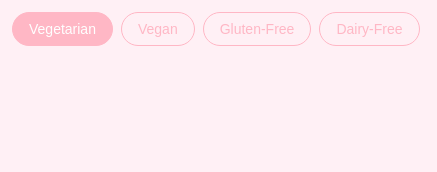
Test: DietaryPreferences chips (#394) › toggling a chip flips its pressed state and PUTs the full exact-string selection to /api/profile/[id]
Click the checkbox labelled "Gluten-Free" at (257, 29), box [203,12,311,46]
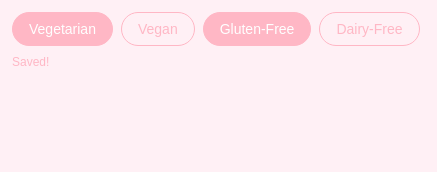
Check: the text "Saved!" is shown, box [12,55,49,69]
